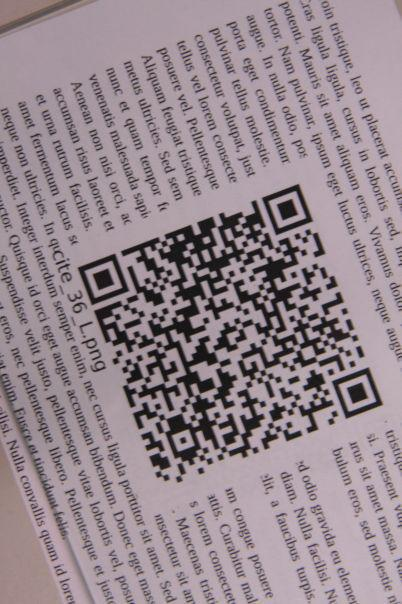Finder pattern: (330, 363, 385, 423), (261, 181, 315, 240), (79, 254, 130, 309)
